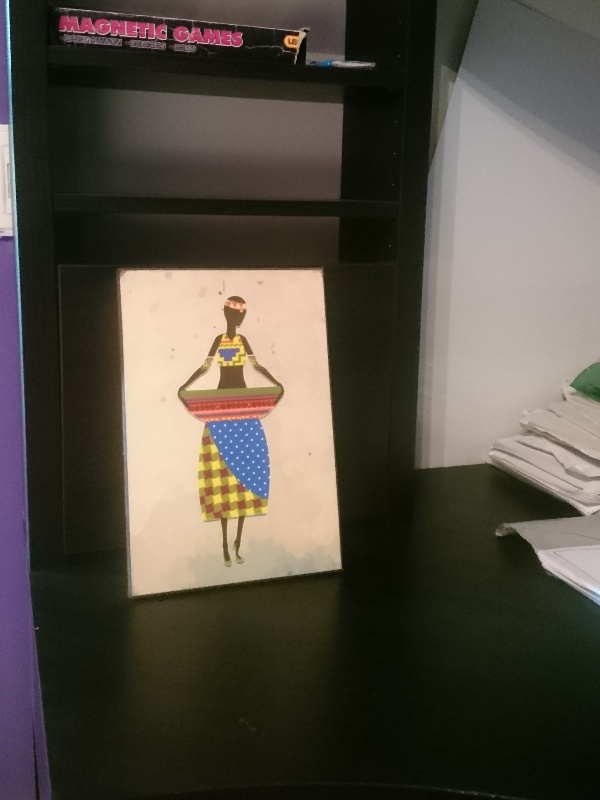my image: (128, 267, 343, 594)
